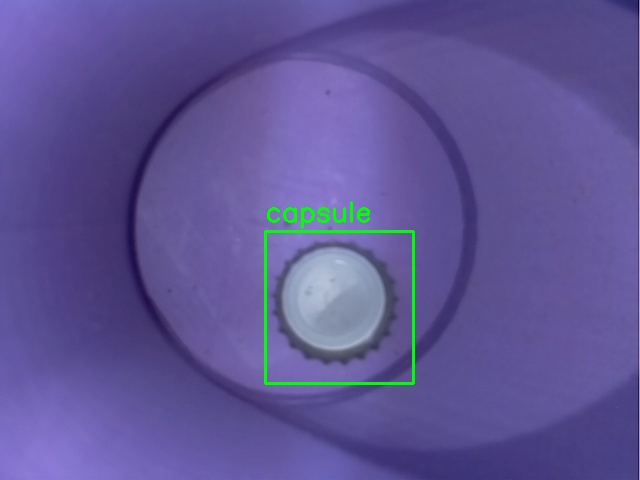capsule: (265, 231, 413, 383)
